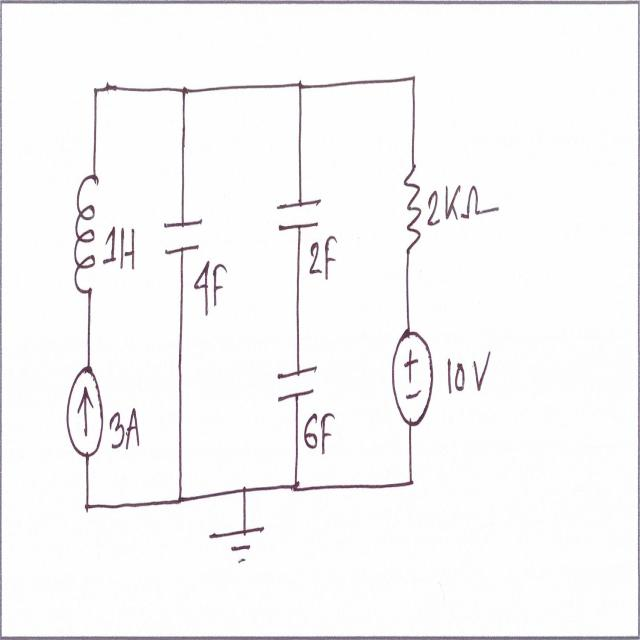capacitor: (159, 207, 205, 265), (273, 190, 326, 238), (276, 356, 319, 407)
current_source: (66, 363, 106, 469)
ground: (209, 520, 272, 564)
inductor: (72, 171, 100, 307)
resistor: (400, 155, 425, 259)
voltage_source: (389, 330, 437, 433)
